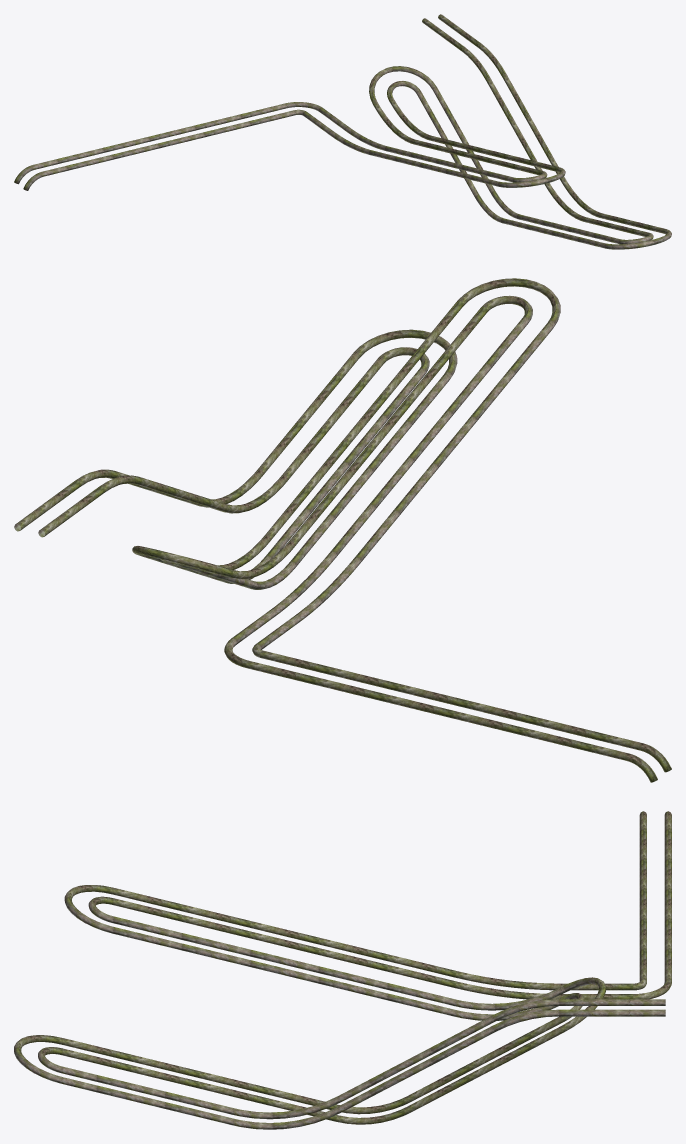
The model's file is PIPE=.fbx.
The picture shows the model from 3 angles, top to bottom: view 1: azimuth 30°, elevation 25°; view 2: azimuth 150°, elevation 25°; view 3: azimuth 270°, elevation 25°; orthographic projection. The views are drawn at different scales.
Parts seen in each view (by area): view 1: pipe; view 2: pipe; view 3: pipe.
Part boxes in pixels (left/top/right/bottom): pipe: left=14, top=14, right=671, bottom=249; pipe: left=14, top=278, right=671, bottom=782; pipe: left=14, top=811, right=671, bottom=1129.
Bounding box in the file's own units: 1869 × 560 × 1854.
